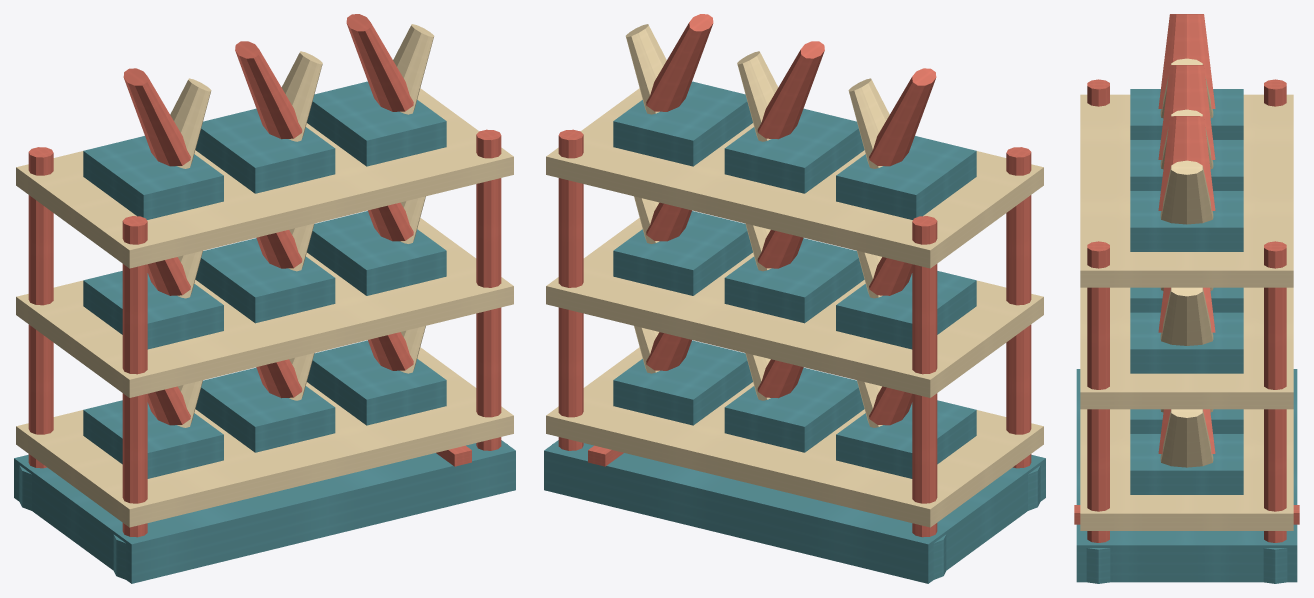
Rendered from atlas100-s076-a01.lod1.glb.
3 views of the same model, side by side, from view 1: azimuth 30°, elevation 25°; view 2: azimuth 150°, elevation 25°; view 3: azimuth 270°, elevation 25° (orthographic). The views are drawn at different scales.
Visible parts, largest first — view 1: atlas100-s076-a01:part-000, atlas100-s076-a01:part-031, atlas100-s076-a01:part-011, atlas100-s076-a01:part-021, atlas100-s076-a01:part-032, atlas100-s076-a01:part-035, atlas100-s076-a01:part-015, atlas100-s076-a01:part-025, atlas100-s076-a01:part-028, atlas100-s076-a01:part-018, atlas100-s076-a01:part-038, atlas100-s076-a01:part-005 (+16 smaller); view 2: atlas100-s076-a01:part-000, atlas100-s076-a01:part-031, atlas100-s076-a01:part-011, atlas100-s076-a01:part-021, atlas100-s076-a01:part-032, atlas100-s076-a01:part-035, atlas100-s076-a01:part-015, atlas100-s076-a01:part-025, atlas100-s076-a01:part-028, atlas100-s076-a01:part-018, atlas100-s076-a01:part-038, atlas100-s076-a01:part-003 (+16 smaller); view 3: atlas100-s076-a01:part-031, atlas100-s076-a01:part-021, atlas100-s076-a01:part-011, atlas100-s076-a01:part-000, atlas100-s076-a01:part-007, atlas100-s076-a01:part-009, atlas100-s076-a01:part-028, atlas100-s076-a01:part-038, atlas100-s076-a01:part-018, atlas100-s076-a01:part-032, atlas100-s076-a01:part-035, atlas100-s076-a01:part-040 (+15 smaller).
Part boxes in pixels (<box>): atlas100-s076-a01:part-000: <box>14,440,515,583</box>; atlas100-s076-a01:part-031: <box>16,88,513,268</box>; atlas100-s076-a01:part-011: <box>16,347,513,527</box>; atlas100-s076-a01:part-021: <box>16,218,513,397</box>; atlas100-s076-a01:part-032: <box>83,136,223,219</box>; atlas100-s076-a01:part-035: <box>195,108,335,193</box>; atlas100-s076-a01:part-015: <box>195,367,335,452</box>; atlas100-s076-a01:part-025: <box>195,238,335,323</box>; atlas100-s076-a01:part-028: <box>307,211,446,295</box>; atlas100-s076-a01:part-018: <box>307,340,446,425</box>; atlas100-s076-a01:part-038: <box>307,81,446,166</box>; atlas100-s076-a01:part-005: <box>122,216,147,537</box>; atlas100-s076-a01:part-000: <box>544,440,1045,583</box>; atlas100-s076-a01:part-031: <box>546,88,1043,268</box>; atlas100-s076-a01:part-011: <box>546,347,1043,527</box>; atlas100-s076-a01:part-021: <box>546,218,1043,397</box>; atlas100-s076-a01:part-032: <box>836,136,976,219</box>; atlas100-s076-a01:part-035: <box>724,108,864,193</box>; atlas100-s076-a01:part-015: <box>724,367,864,452</box>; atlas100-s076-a01:part-025: <box>724,238,864,323</box>; atlas100-s076-a01:part-028: <box>613,211,752,295</box>; atlas100-s076-a01:part-018: <box>613,340,752,425</box>; atlas100-s076-a01:part-038: <box>613,81,752,166</box>; atlas100-s076-a01:part-003: <box>912,216,937,537</box>; atlas100-s076-a01:part-031: <box>1080,94,1293,287</box>; atlas100-s076-a01:part-021: <box>1080,287,1293,409</box>; atlas100-s076-a01:part-011: <box>1080,409,1293,530</box>; atlas100-s076-a01:part-000: <box>1076,369,1297,582</box>; atlas100-s076-a01:part-007: <box>1264,241,1286,542</box>; atlas100-s076-a01:part-009: <box>1087,241,1109,542</box>; atlas100-s076-a01:part-028: <box>1130,312,1243,373</box>; atlas100-s076-a01:part-038: <box>1130,191,1243,251</box>; atlas100-s076-a01:part-018: <box>1130,434,1243,494</box>; atlas100-s076-a01:part-032: <box>1130,89,1243,139</box>; atlas100-s076-a01:part-035: <box>1130,140,1243,190</box>; atlas100-s076-a01:part-040: <box>1160,160,1213,224</box>.
Bounding box in the file's own units: 2.69 × 2.97 × 1.43.
Materials: 3 (3 with a texture image).
